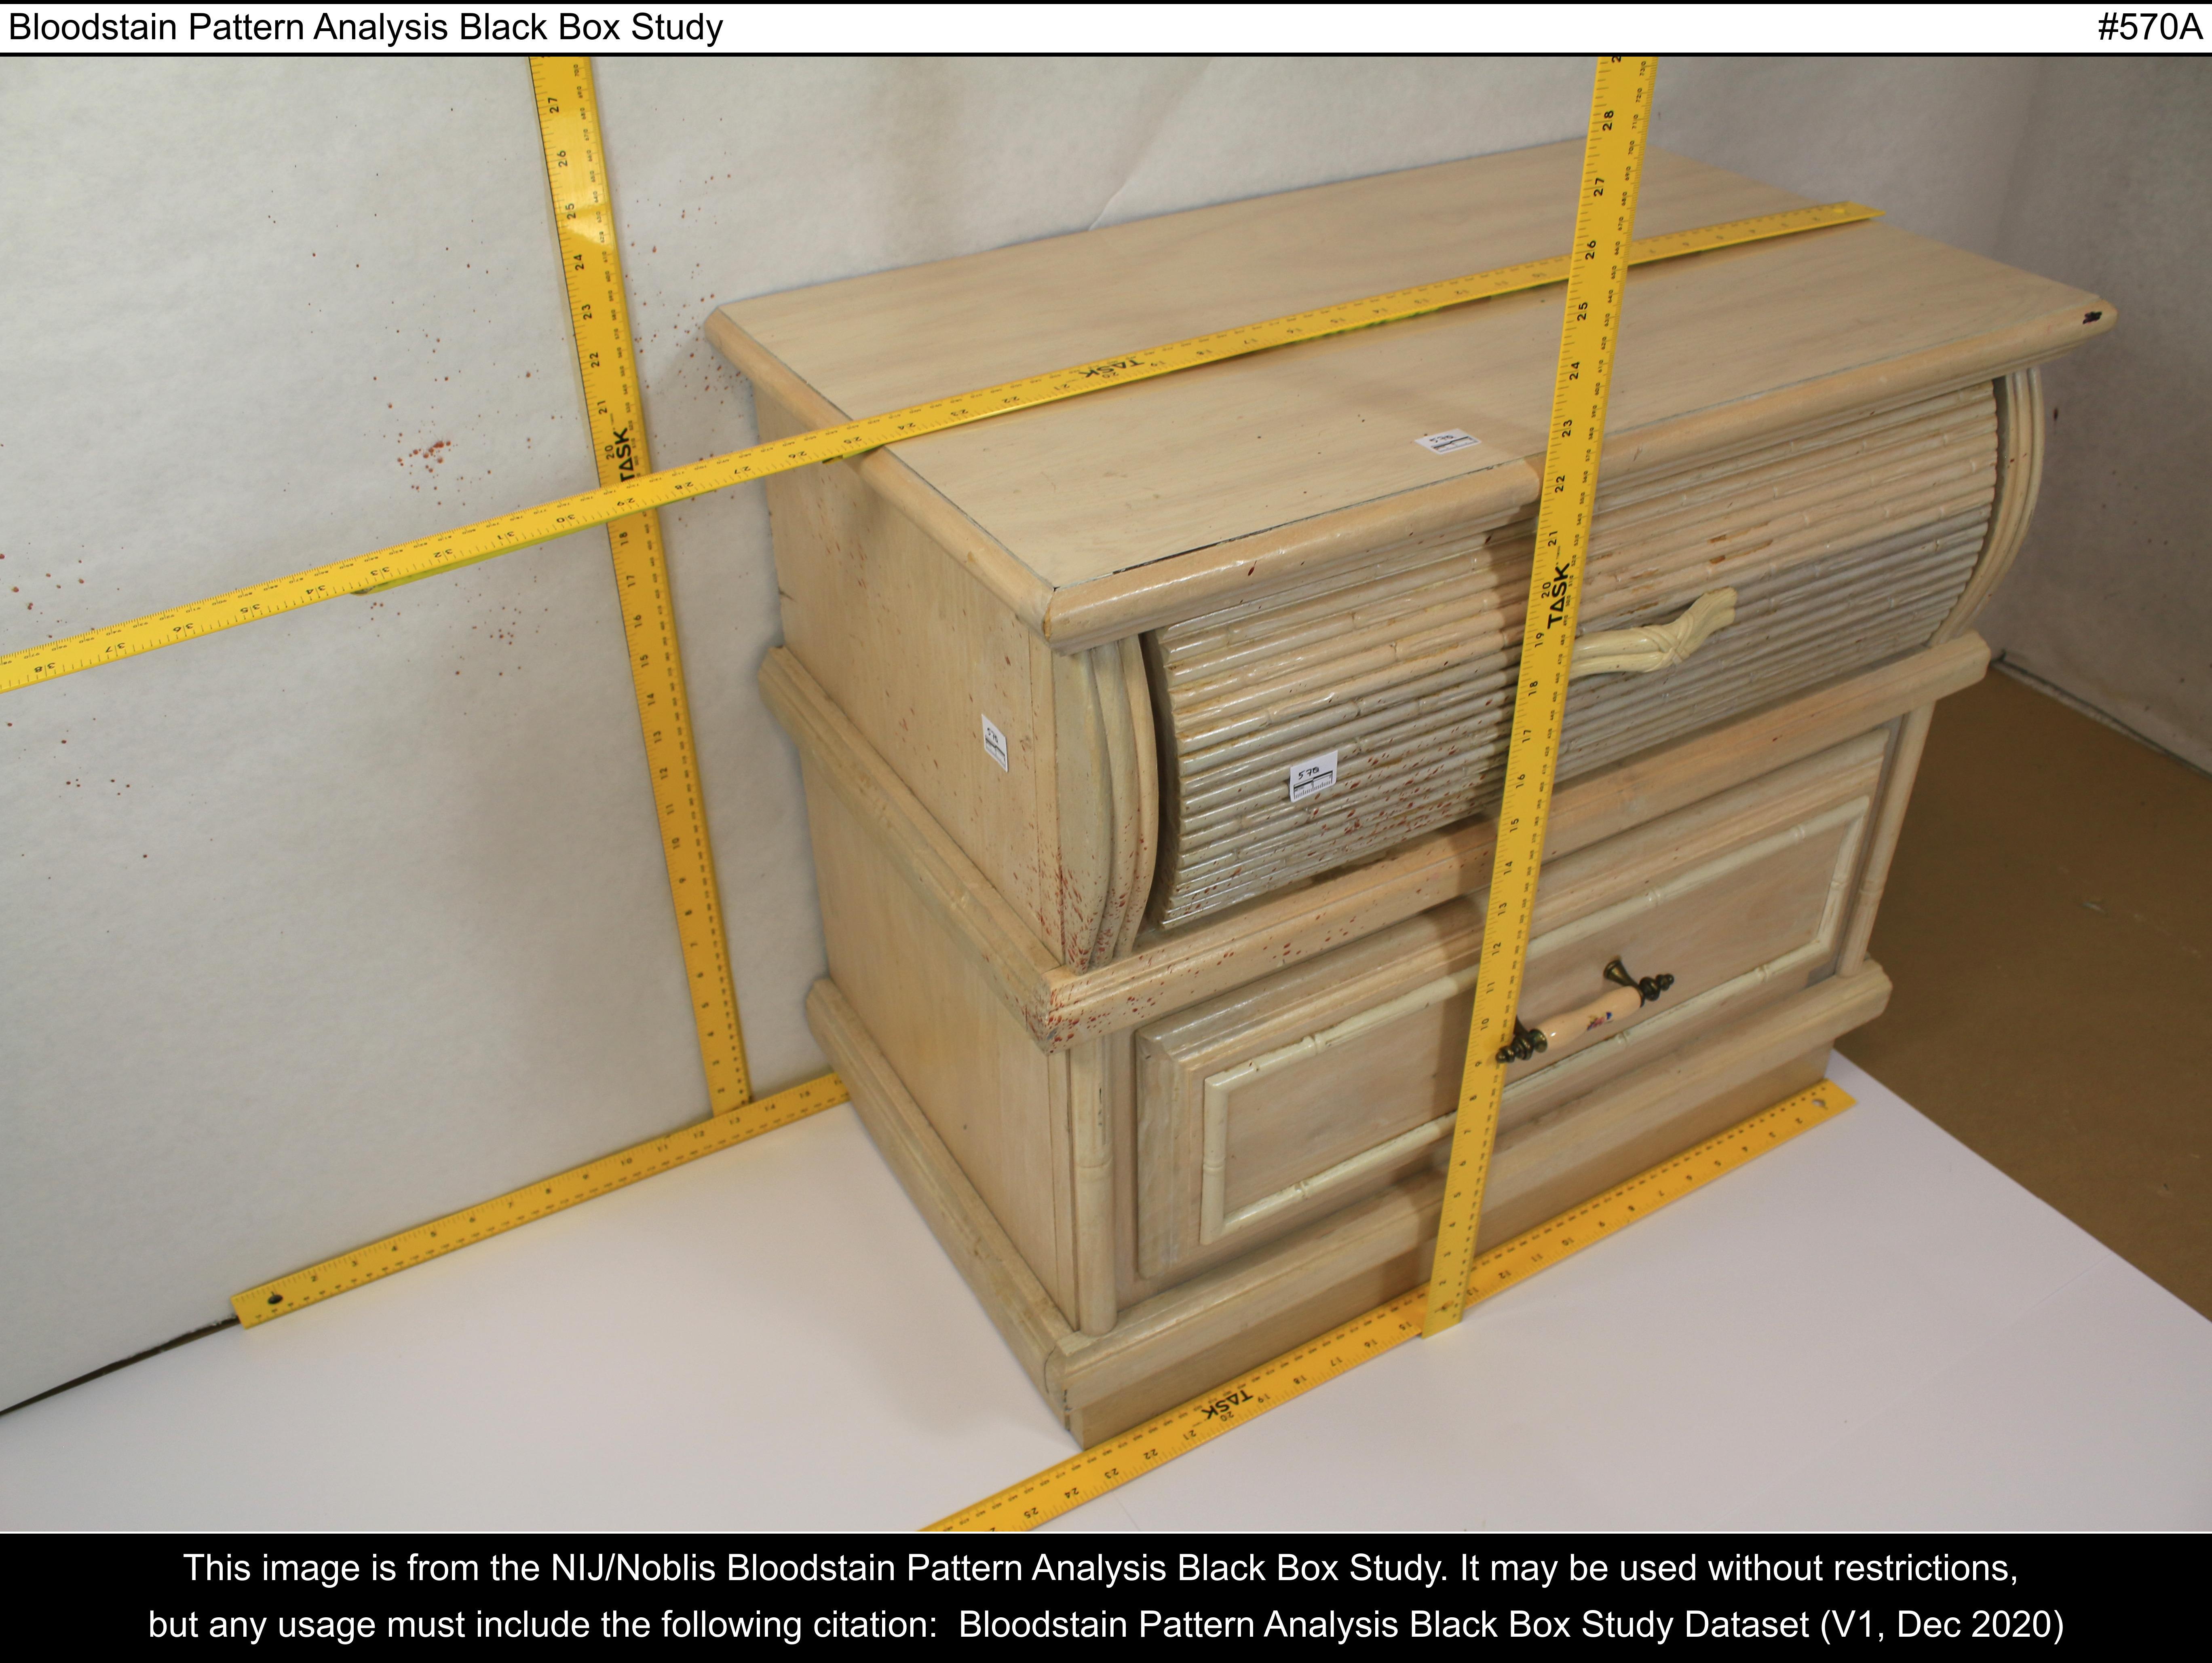Impact: (993, 693, 1475, 1025), (314, 246, 522, 496), (642, 161, 752, 391)
